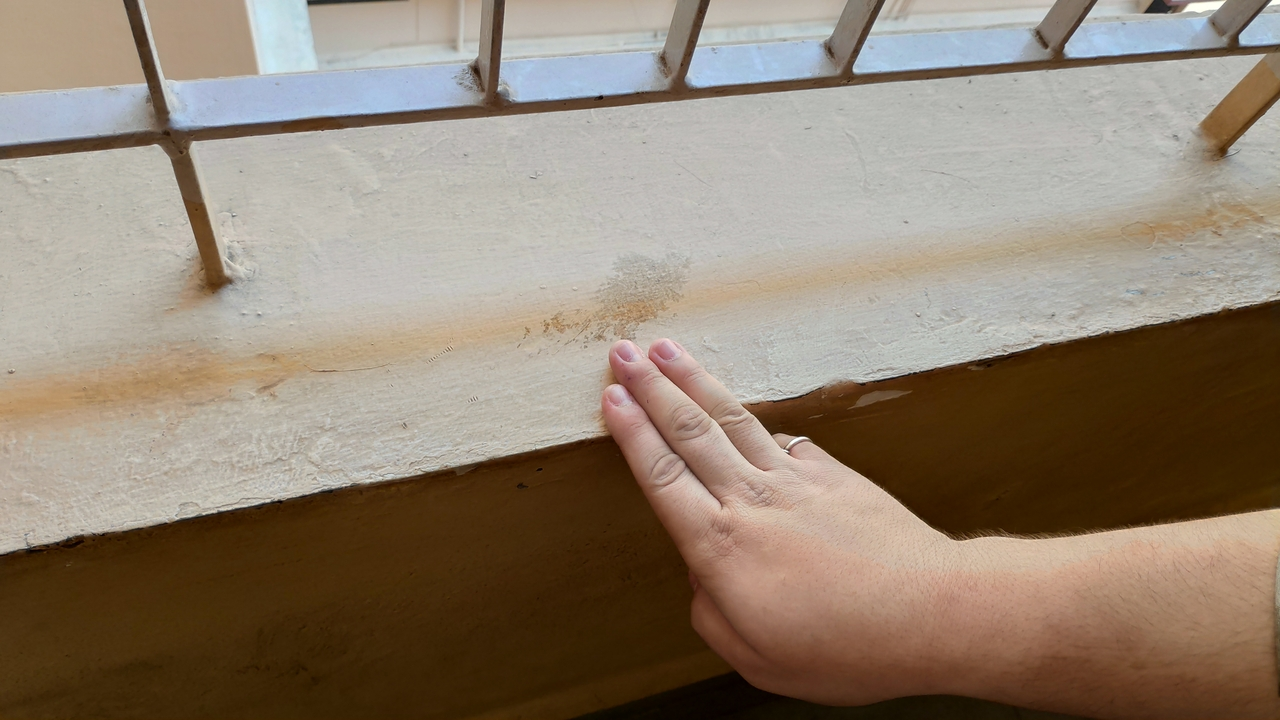fingertip: (593, 334, 643, 370), (652, 328, 693, 370), (587, 380, 633, 412)
